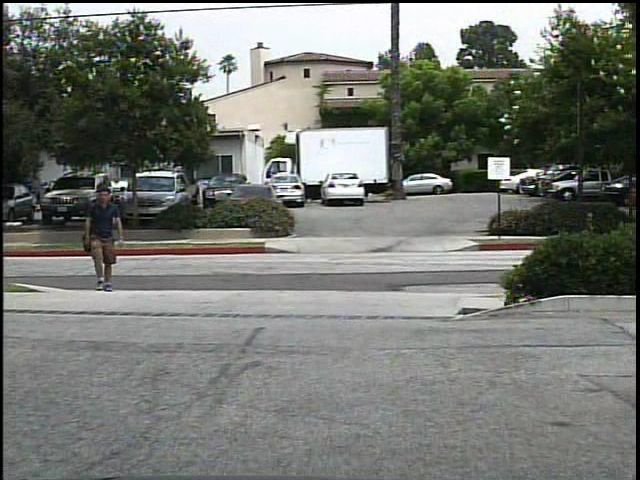person: (84, 187, 127, 293)
